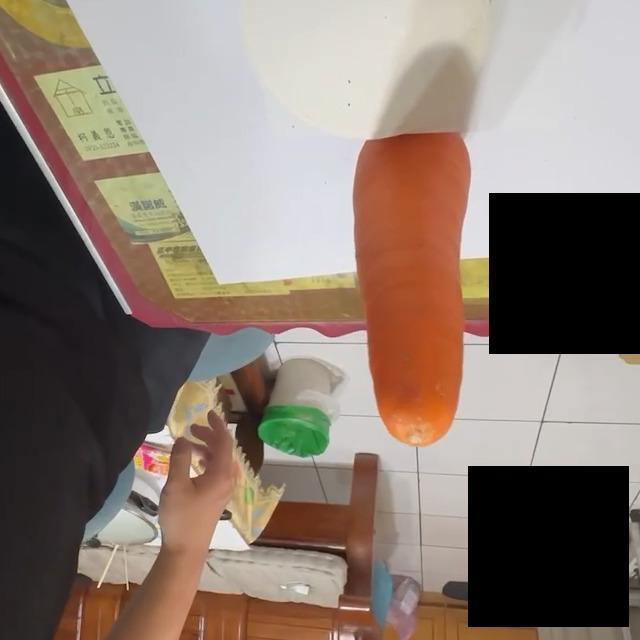carrot: (351, 126, 477, 449)
